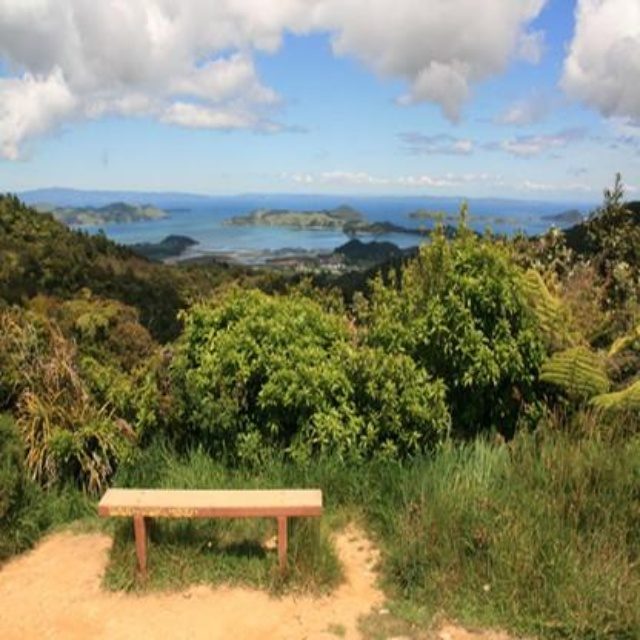obstacle: (88, 462, 332, 575)
